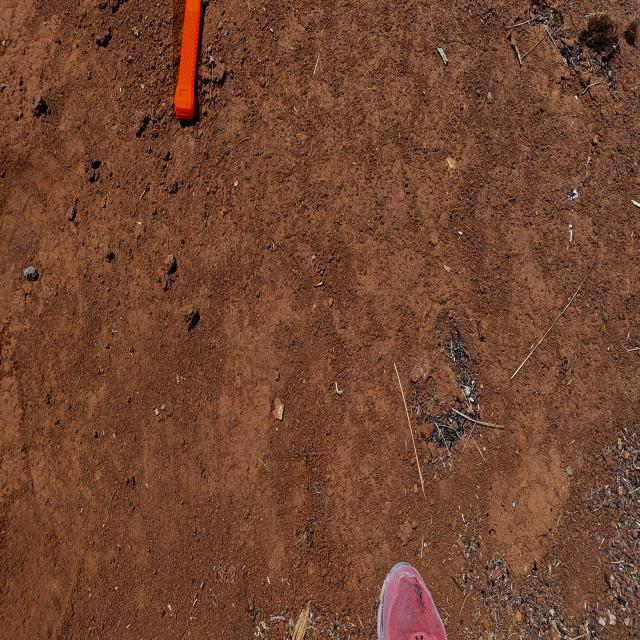Orange_hammer: (173, 0, 202, 121)
